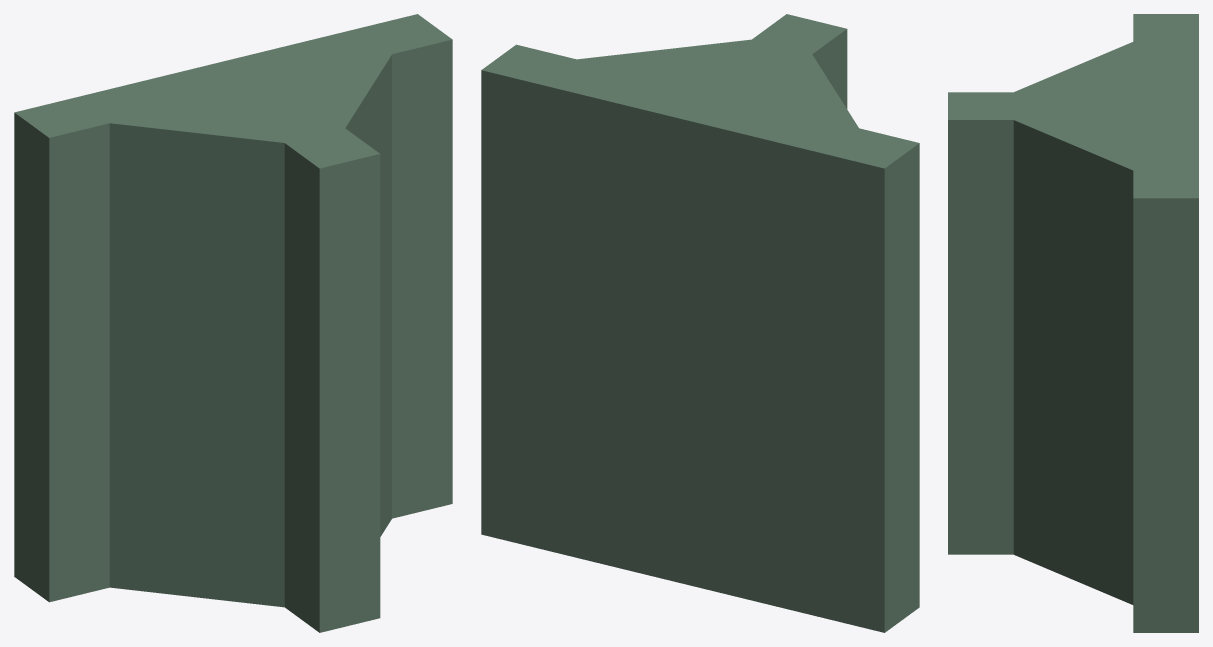
File: W2_WallCorner_Angular1C.fbx
The picture shows the model from 3 angles, left to right: view 1: azimuth 30°, elevation 25°; view 2: azimuth 150°, elevation 25°; view 3: azimuth 270°, elevation 25°; orthographic projection. The views are drawn at different scales.
Parts seen in each view (by area): view 1: W2_WallCorner_Angular1C.001; view 2: W2_WallCorner_Angular1C.001; view 3: W2_WallCorner_Angular1C.001.
Part boxes in pixels (bbox=[...]): W2_WallCorner_Angular1C.001: bbox=[14, 14, 452, 632]; W2_WallCorner_Angular1C.001: bbox=[481, 14, 919, 632]; W2_WallCorner_Angular1C.001: bbox=[948, 14, 1198, 632].
Size of the model in its own units: 2 by 2.2 by 1.15.
